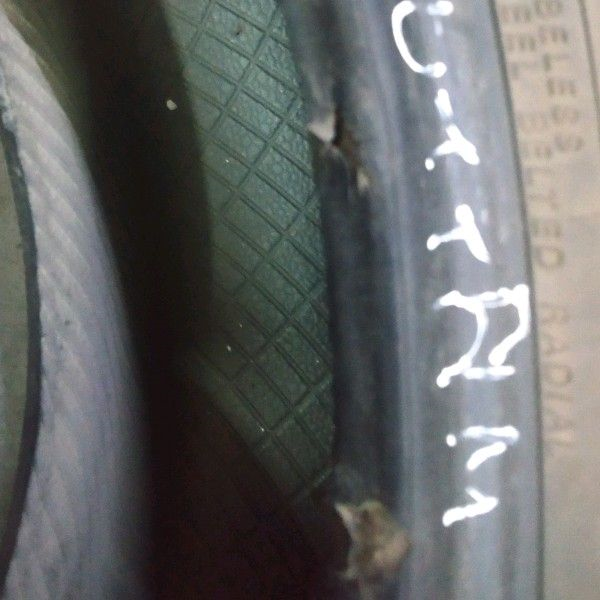bead_damage: (322, 473, 428, 594), (302, 69, 385, 211)
